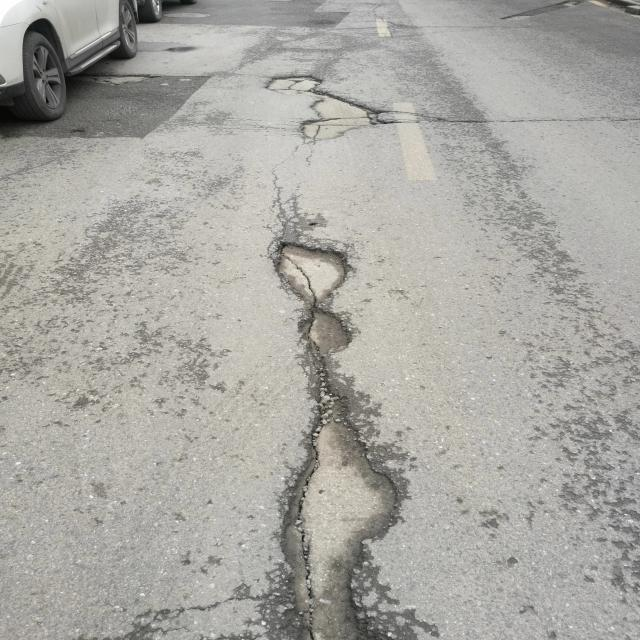Pothole: (271, 237, 404, 640), (262, 71, 394, 143)
